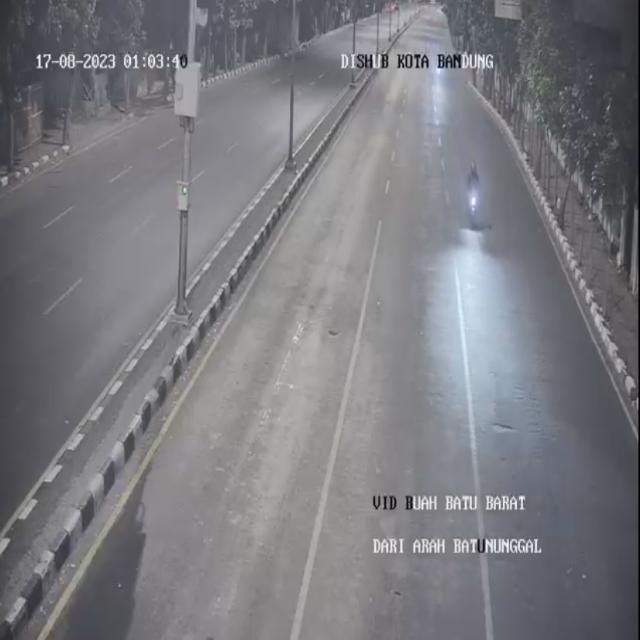motorcycle: (467, 161, 480, 226)
